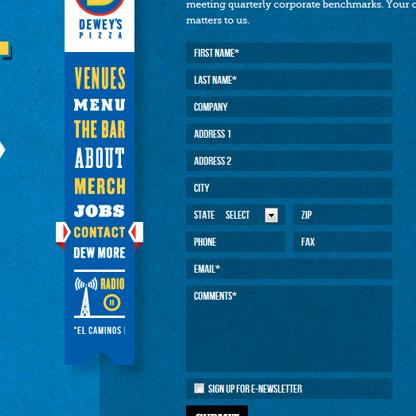checkbox: (192, 381, 303, 396)
field: (185, 284, 394, 373), (185, 41, 394, 64), (185, 69, 394, 92), (184, 95, 393, 118), (184, 123, 393, 146), (185, 149, 394, 172), (185, 176, 394, 199), (183, 258, 392, 281), (185, 203, 286, 227), (184, 231, 286, 254), (293, 203, 393, 226), (292, 231, 393, 253)
